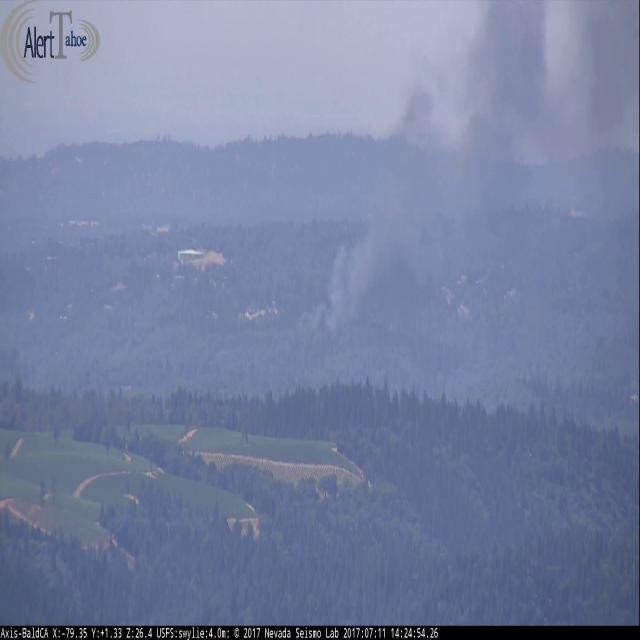smoke: (294, 0, 639, 346)
